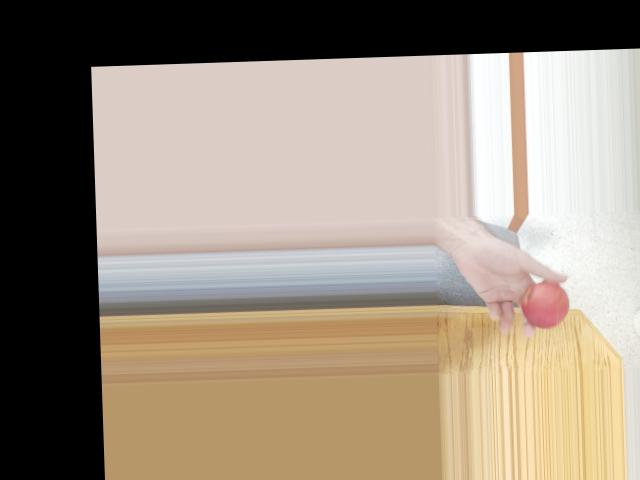apple: (520, 273, 573, 329)
